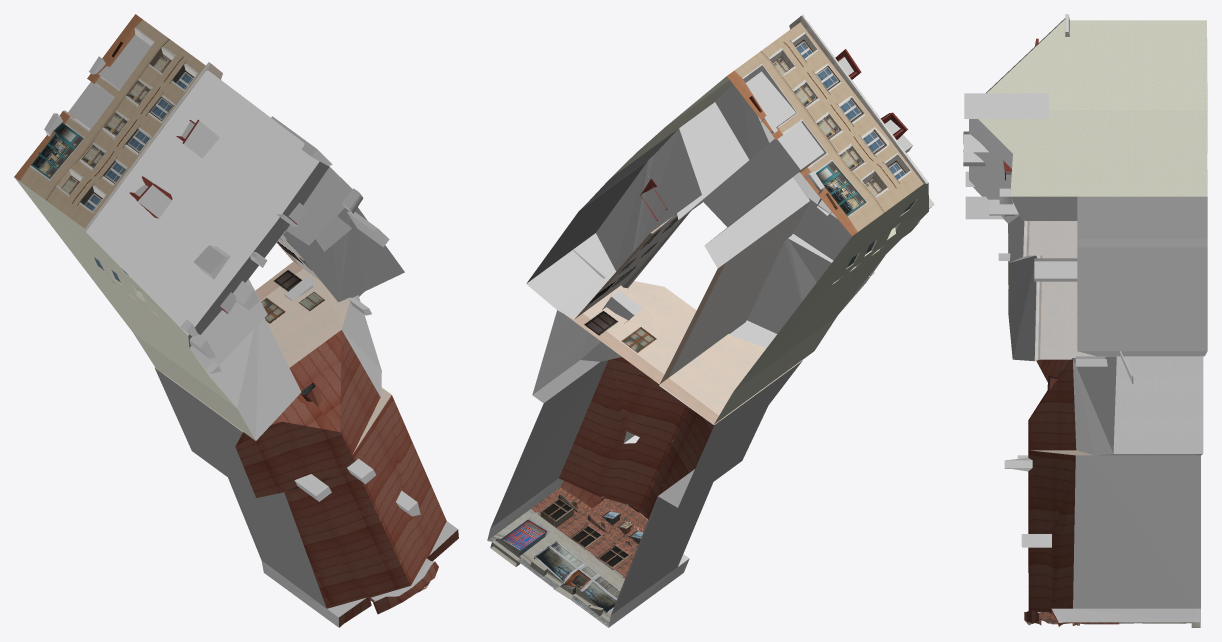
Rendered from Pikk_5-origo.obj.
The picture shows the model from 3 angles, left to right: view 1: azimuth 30°, elevation 25°; view 2: azimuth 150°, elevation 25°; view 3: azimuth 270°, elevation 25°; orthographic projection. The views are drawn at different scales.
Visible parts, largest first — view 1: Pikk_5; view 2: Pikk_5; view 3: Pikk_5.
Boxes of the visible parts, x1,y1,x2,y2 form: Pikk_5: (14,14,458,627); Pikk_5: (487,14,934,627); Pikk_5: (963,14,1207,627).
Bounding box in the file's own units: 29.44 × 45 × 18.03.
